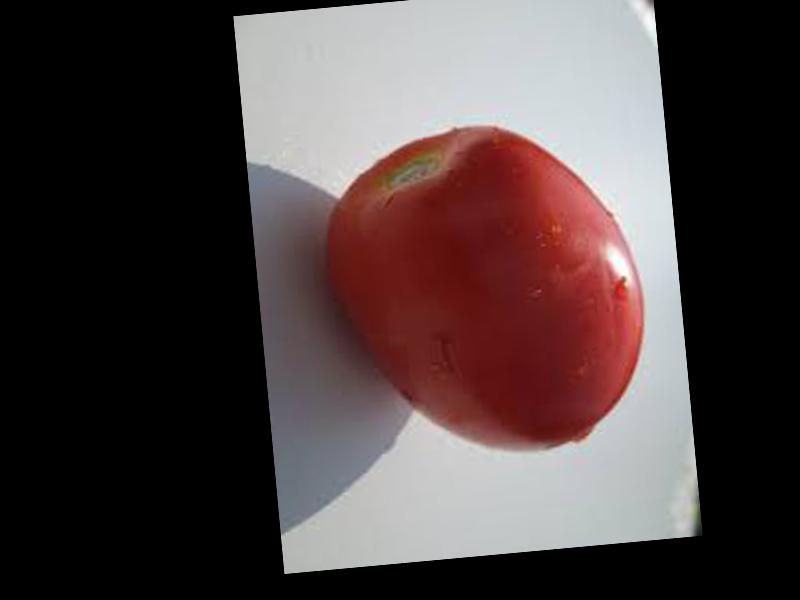Tomato: (318, 113, 656, 466)
